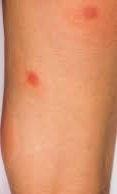Spider: (24, 70, 41, 87), (83, 7, 97, 19)
